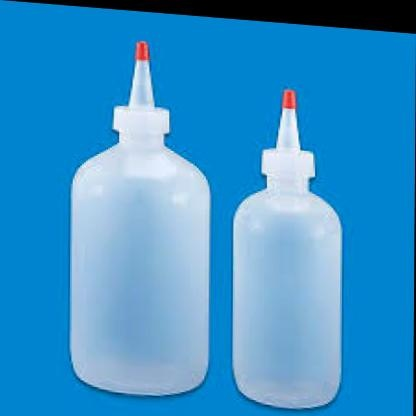trash: (70, 41, 209, 394), (233, 89, 341, 408)
